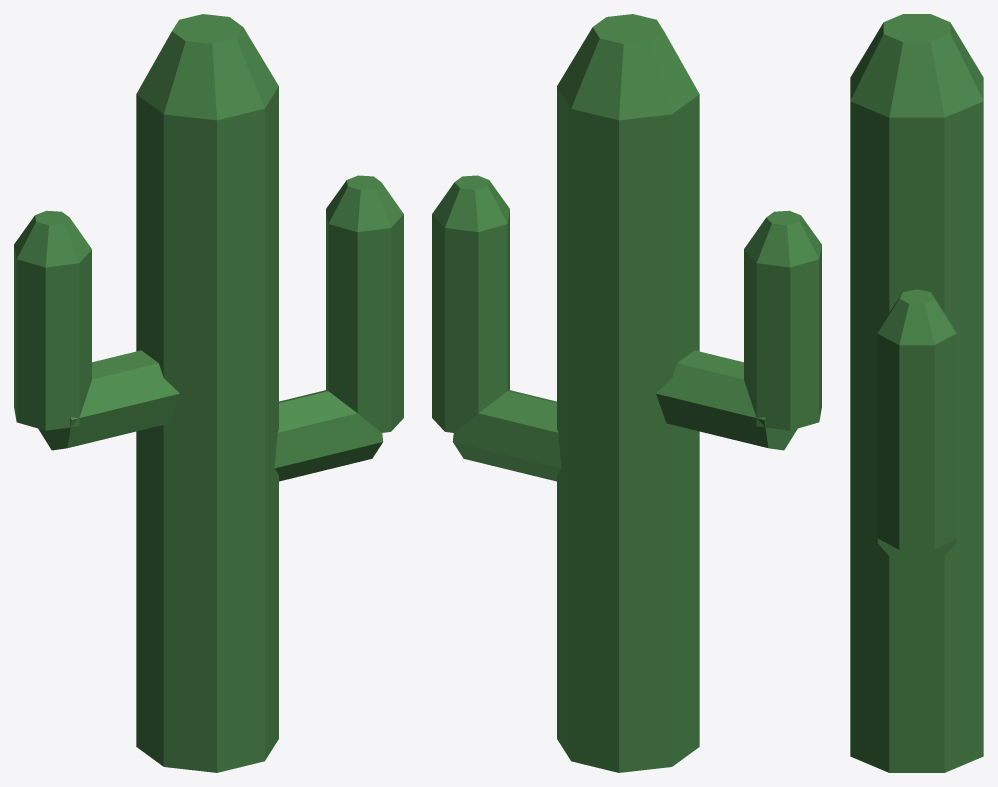
File: cactus.glb
The picture shows the model from 3 angles, left to right: view 1: azimuth 30°, elevation 25°; view 2: azimuth 150°, elevation 25°; view 3: azimuth 270°, elevation 25°; orthographic projection.
Visible parts, largest first — view 1: cactus; view 2: cactus; view 3: cactus.
Boxes of the visible parts, x1,y1,x2,y2 form: cactus: [14, 14, 403, 772]; cactus: [432, 14, 821, 772]; cactus: [850, 14, 983, 772].
Size of the model in its own units: 0.9711 by 1.75 by 0.2956.
